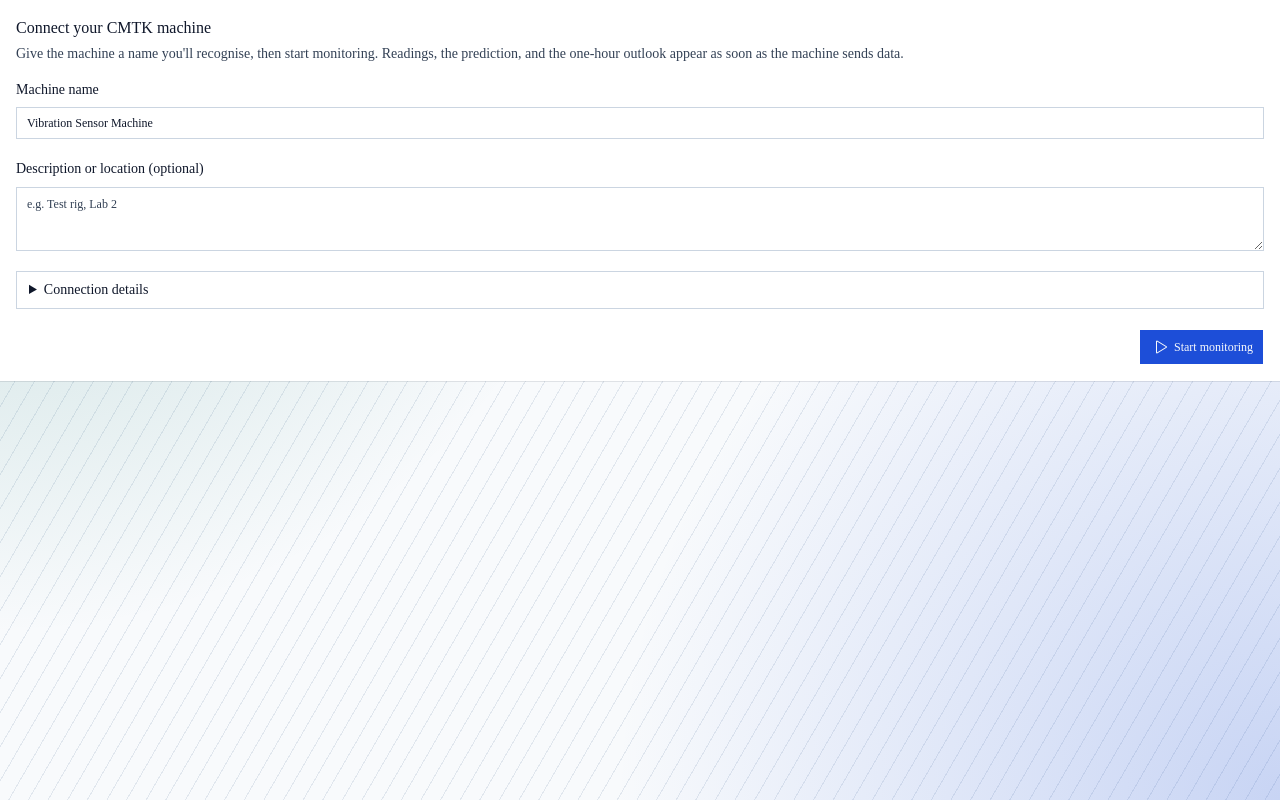
Test case: MonitorLanding › keeps the form and shows a notice when the server rejects the machine
What coordinates should you click on to do the following:
click the button "Start monitoring"
I would click on:
 (1202, 346)
Its box is [1139,328,1264,364].
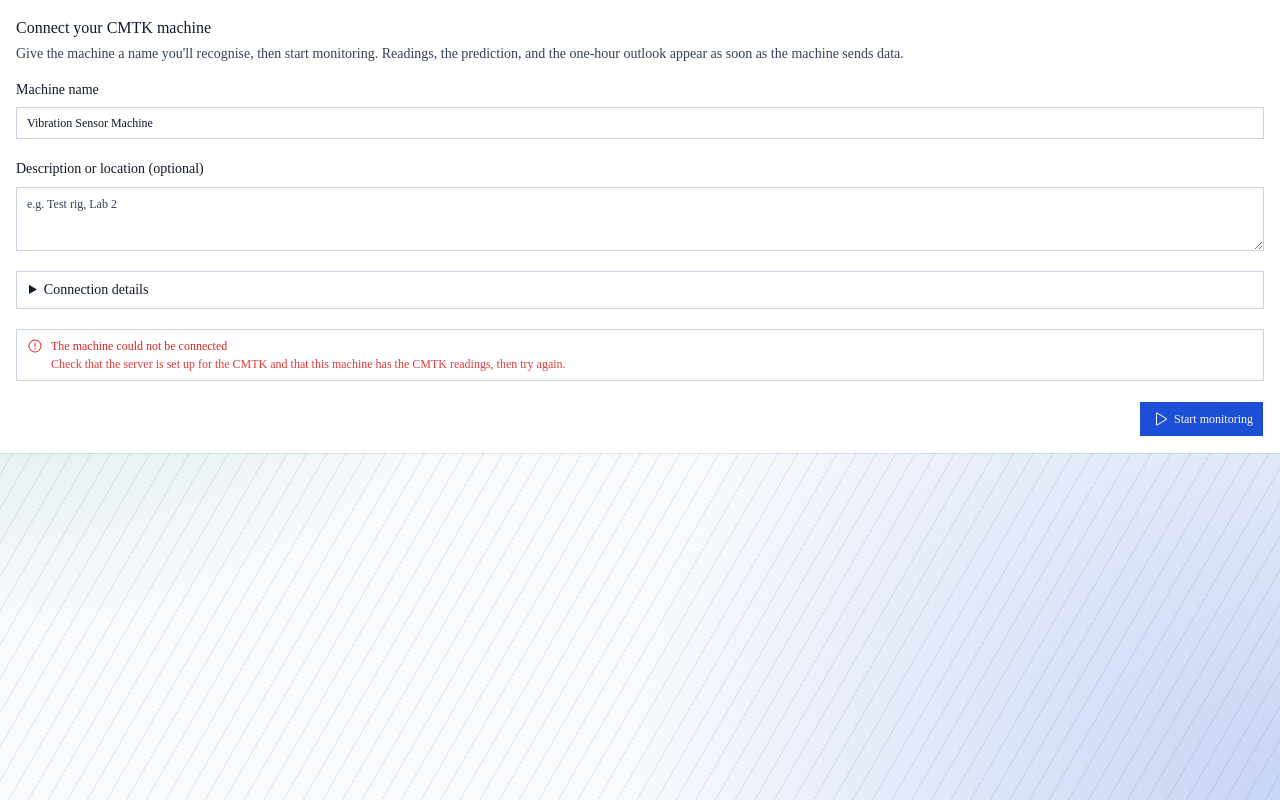
Check: the field labelled "Machine name" holds "Vibration Sensor Machine", box [16,107,1264,139]
Check: the text "The machine could not be connected" is shown, box [51,338,227,352]
